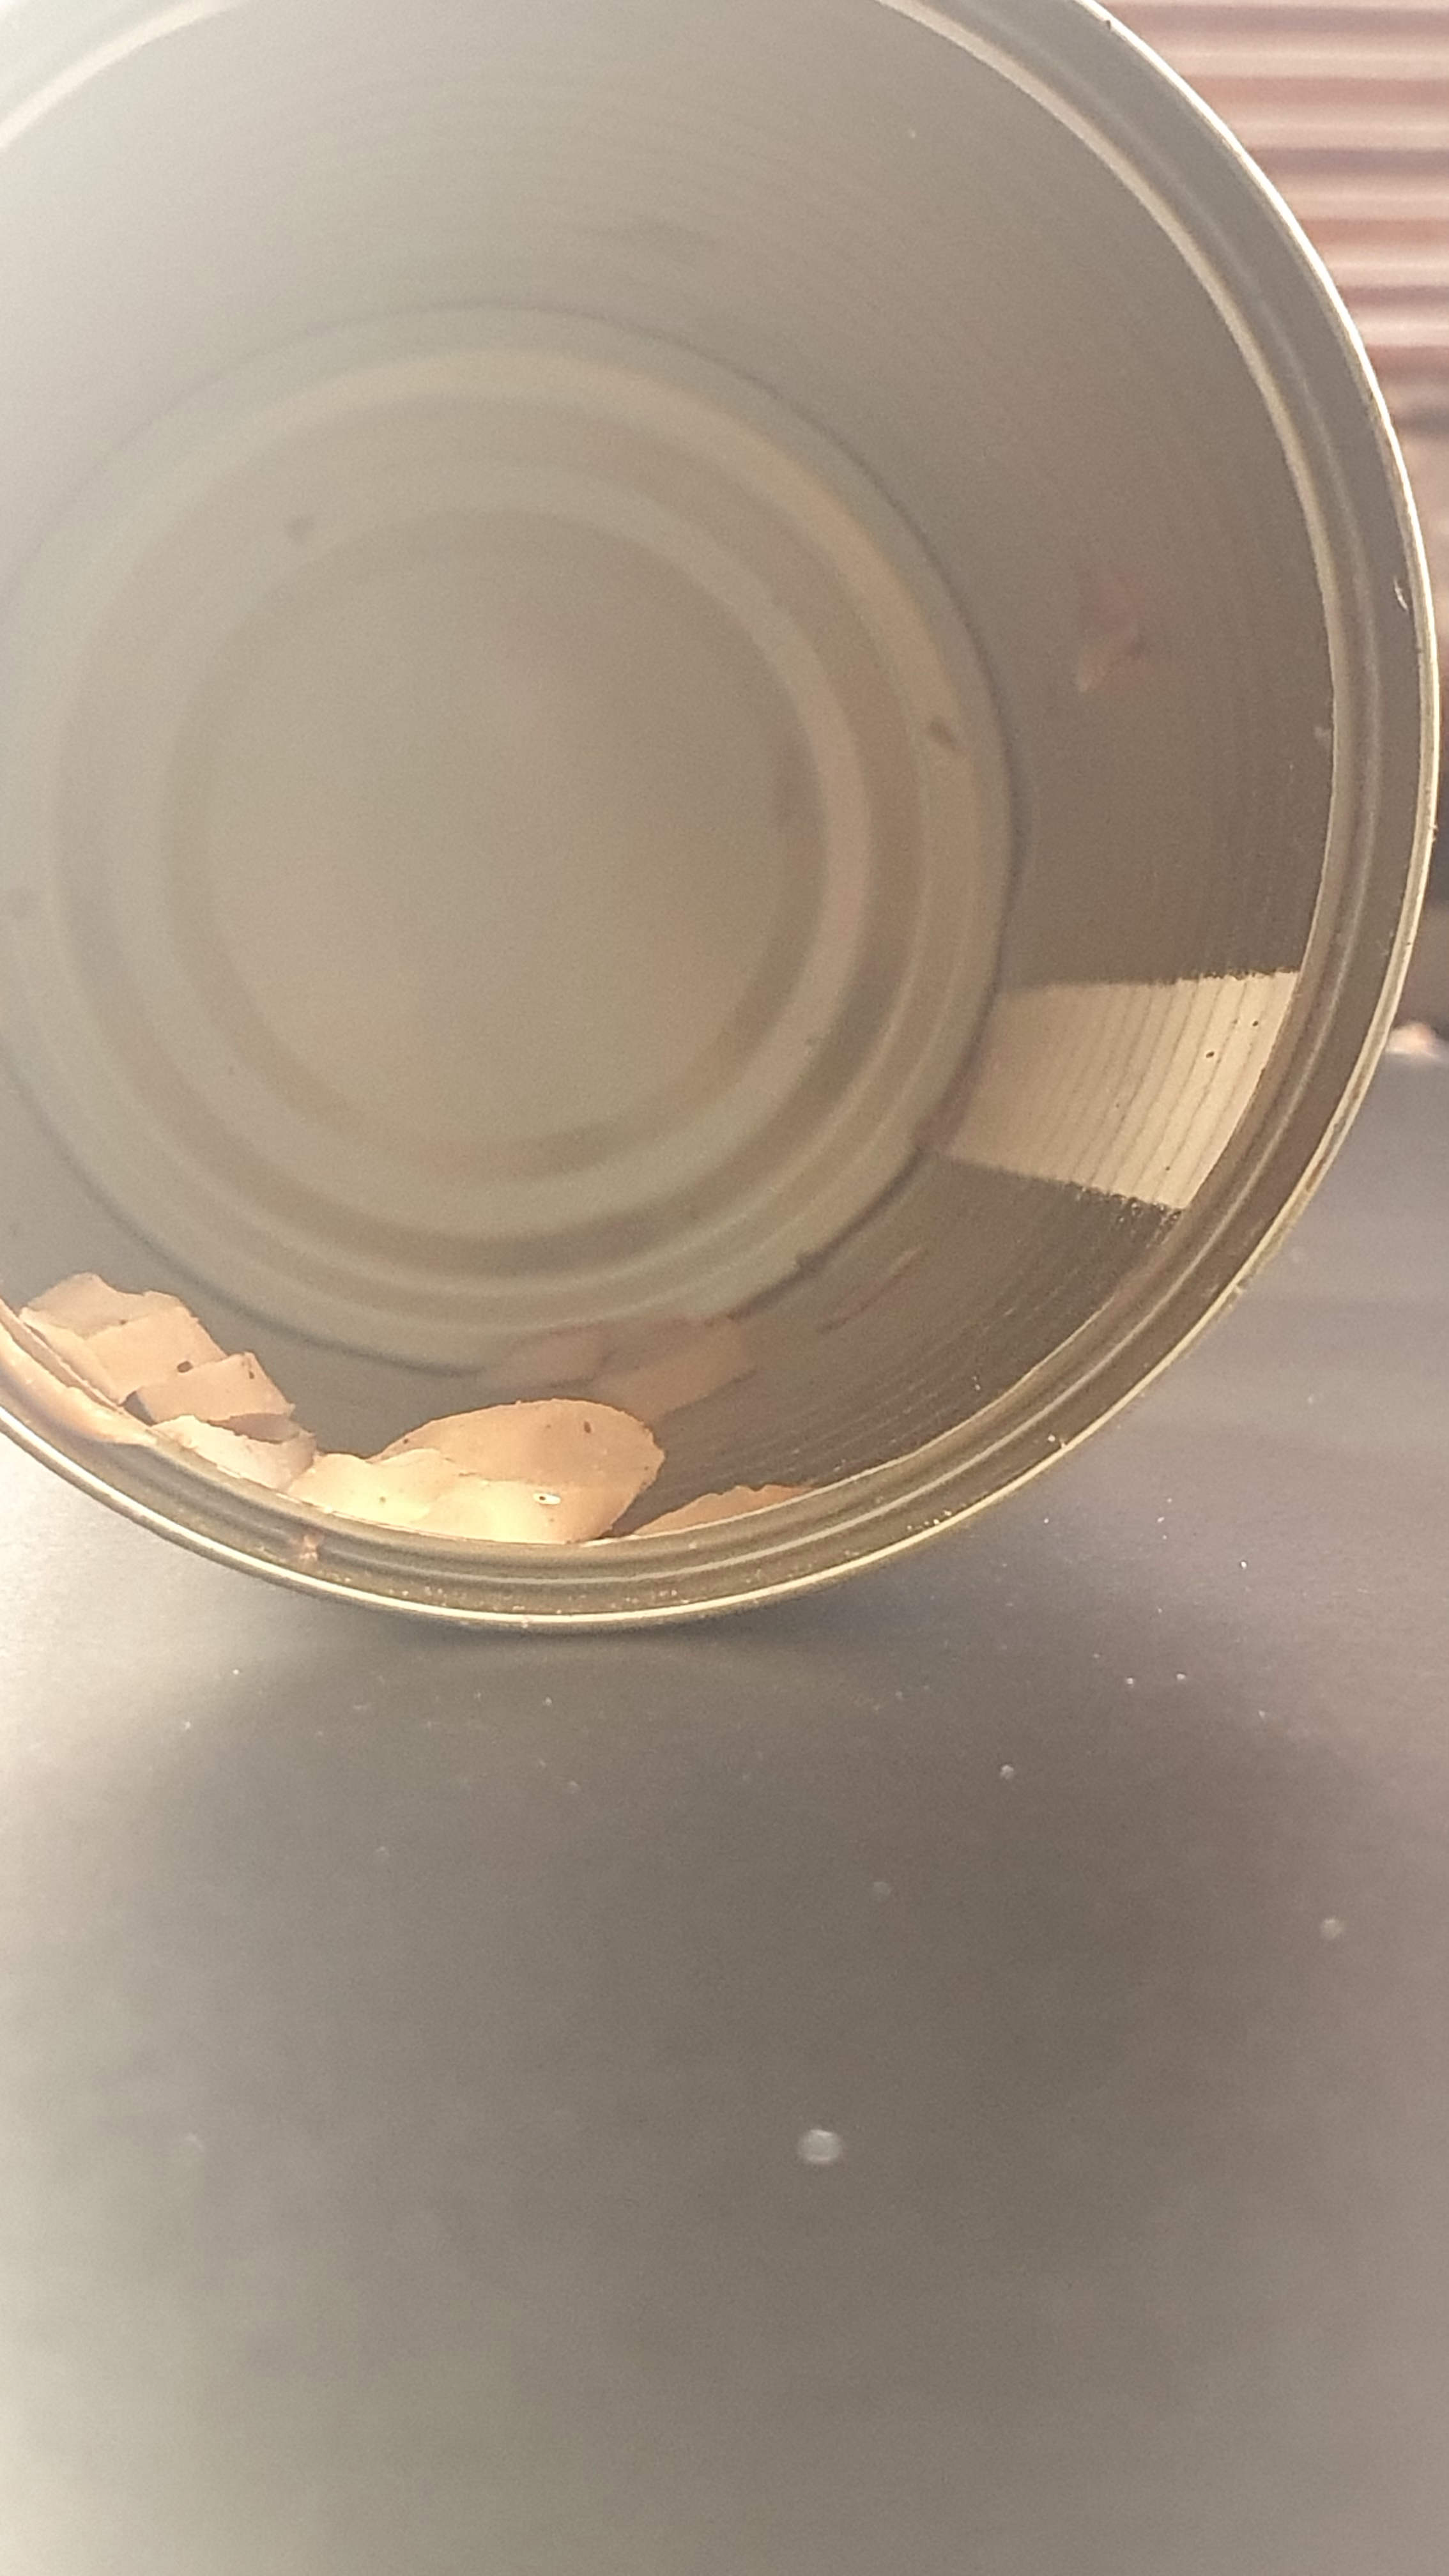metal: (0, 0, 1444, 1679)
